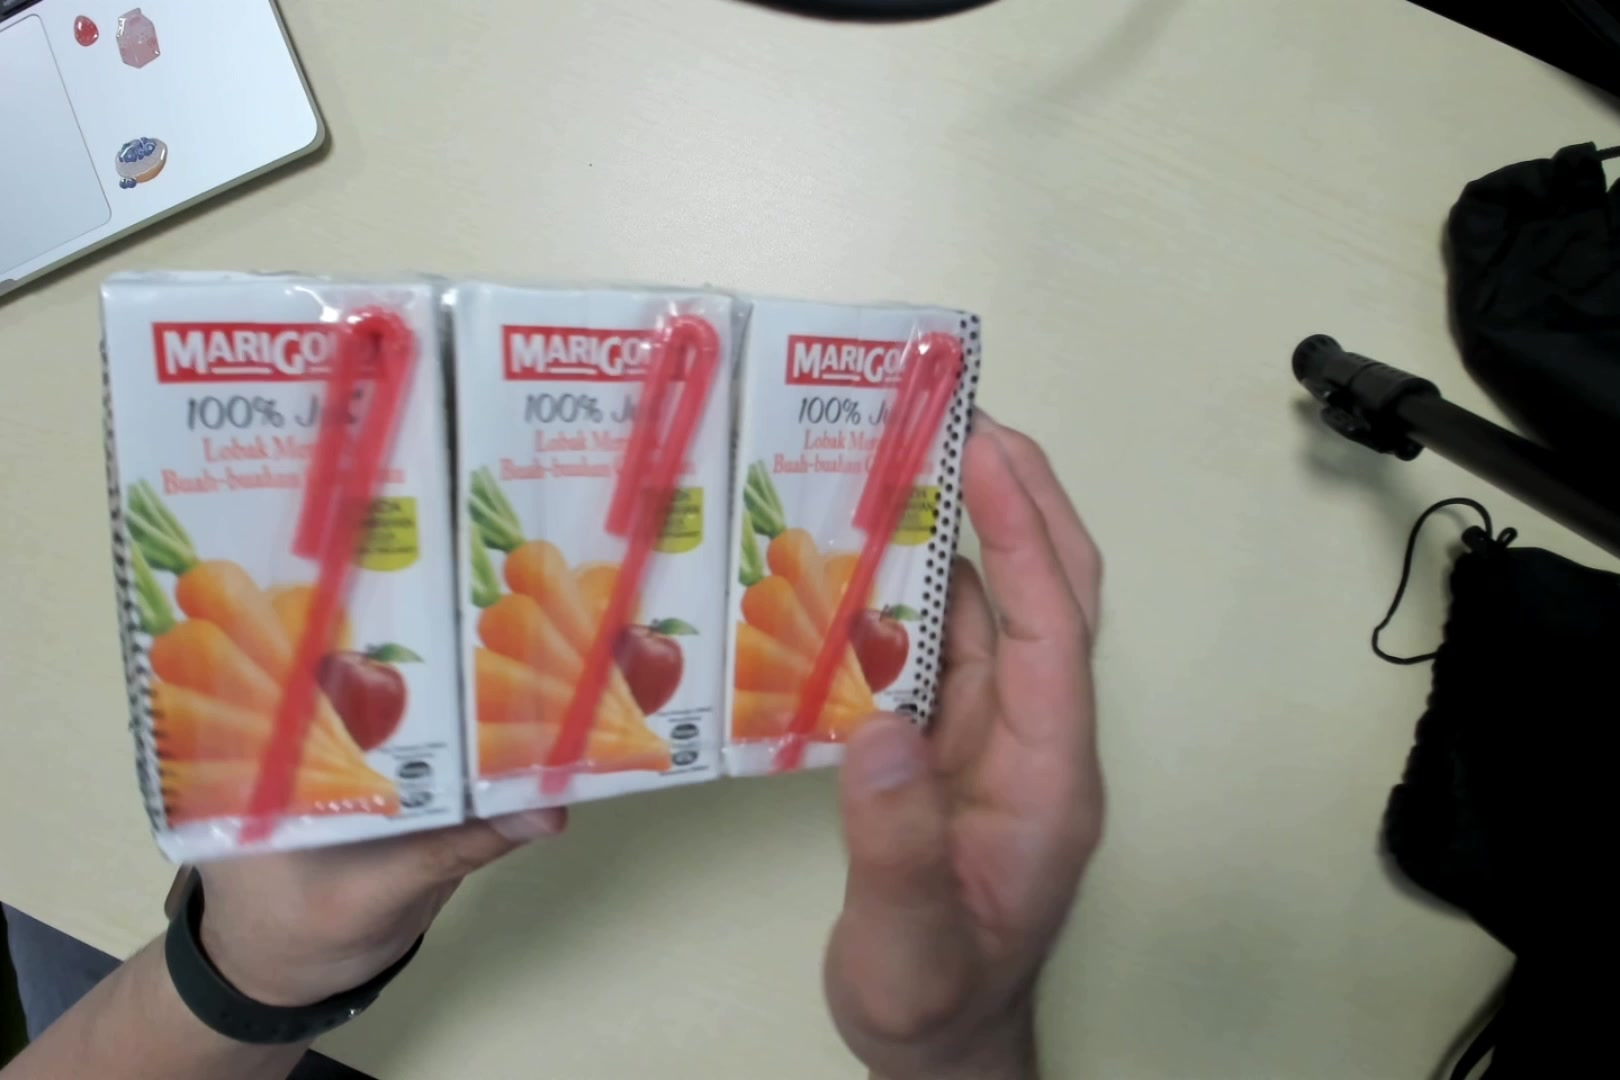FruitJuiceDrink_500-599g_Halal_NonHealthy: (102, 262, 984, 864)
